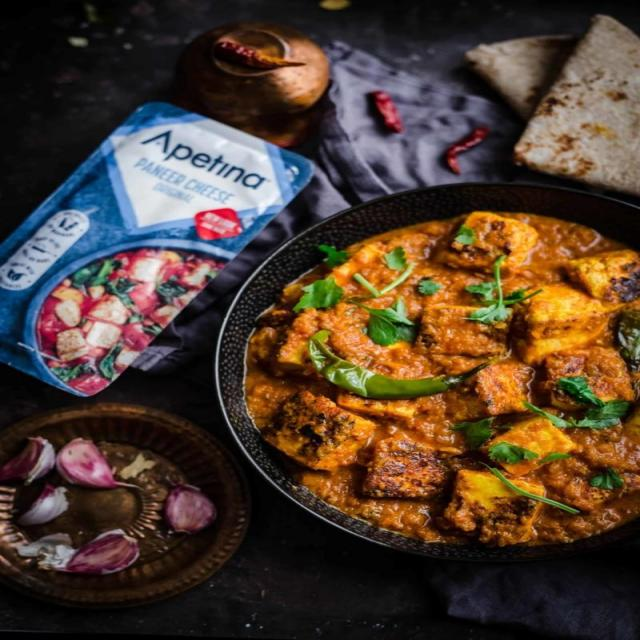roti: (494, 28, 640, 151)
